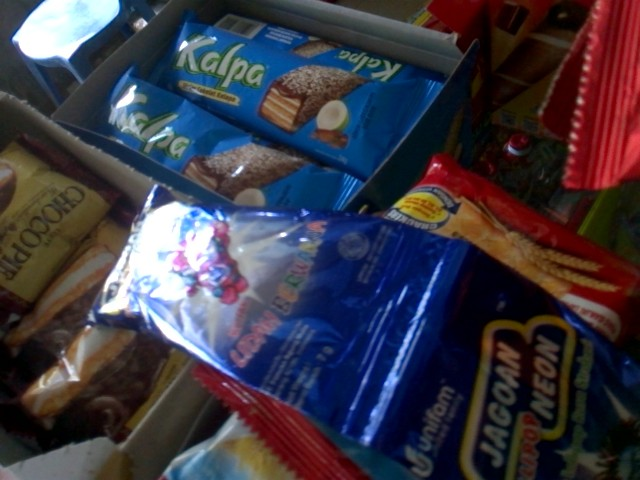jagoan neon: (359, 237, 640, 478)
